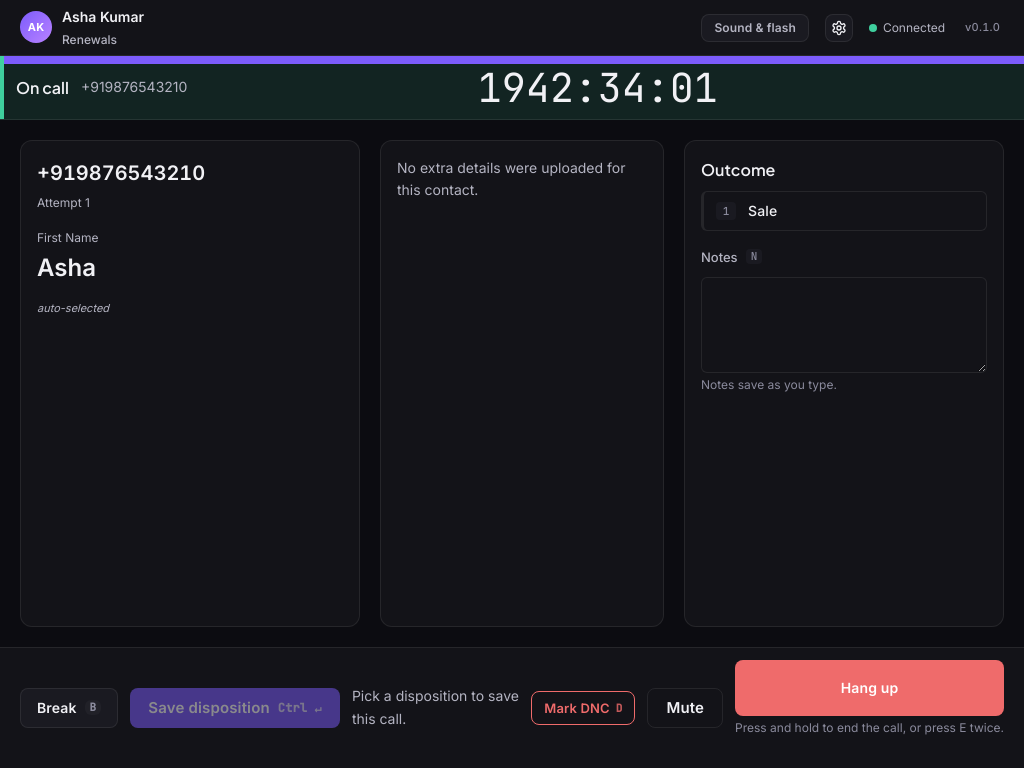
Test: mute › shows the state in the header, not only on the control
The width and height of the screenshot is (1024, 768).
What coordinates should you click on to do the following:
click the button with test id "mute-toggle"
I would click on:
 (685, 708)
Its box is [647, 688, 723, 728].
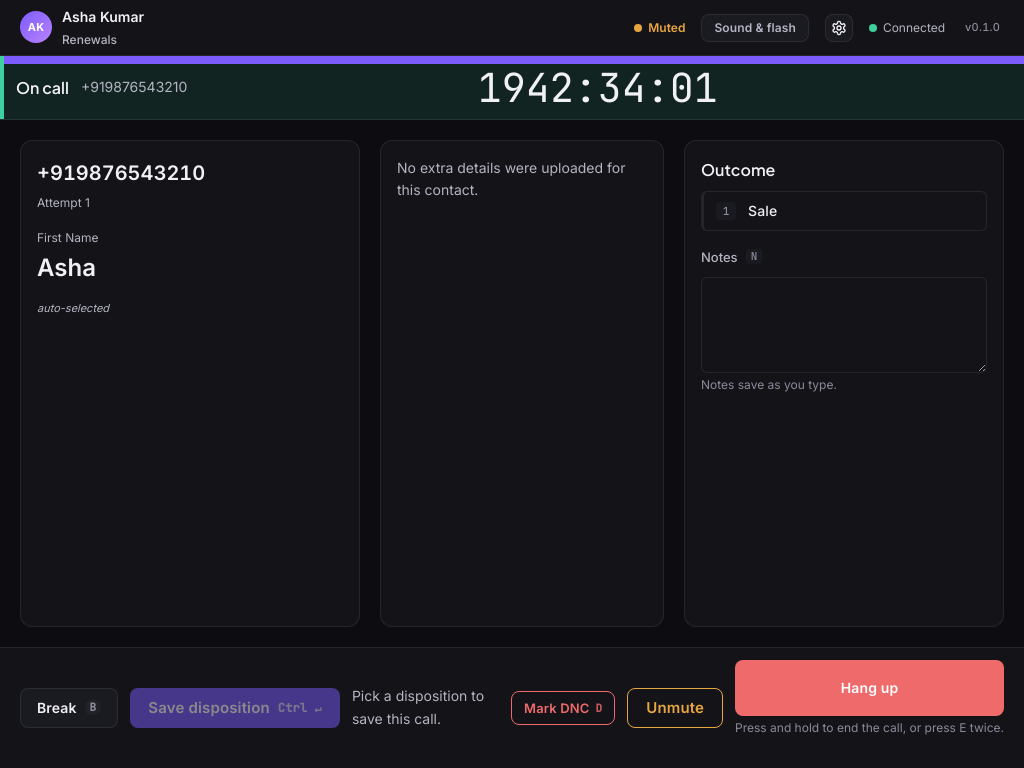
Expected: the element with test id "muted-pill" is shown, [634, 18, 685, 37]
